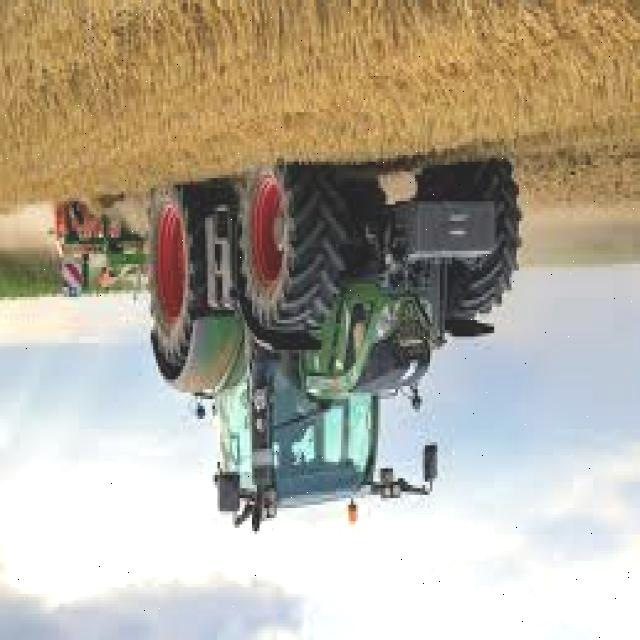Tratores - v5 YOLO V8L 2024-11-13: (134, 119, 530, 542)
